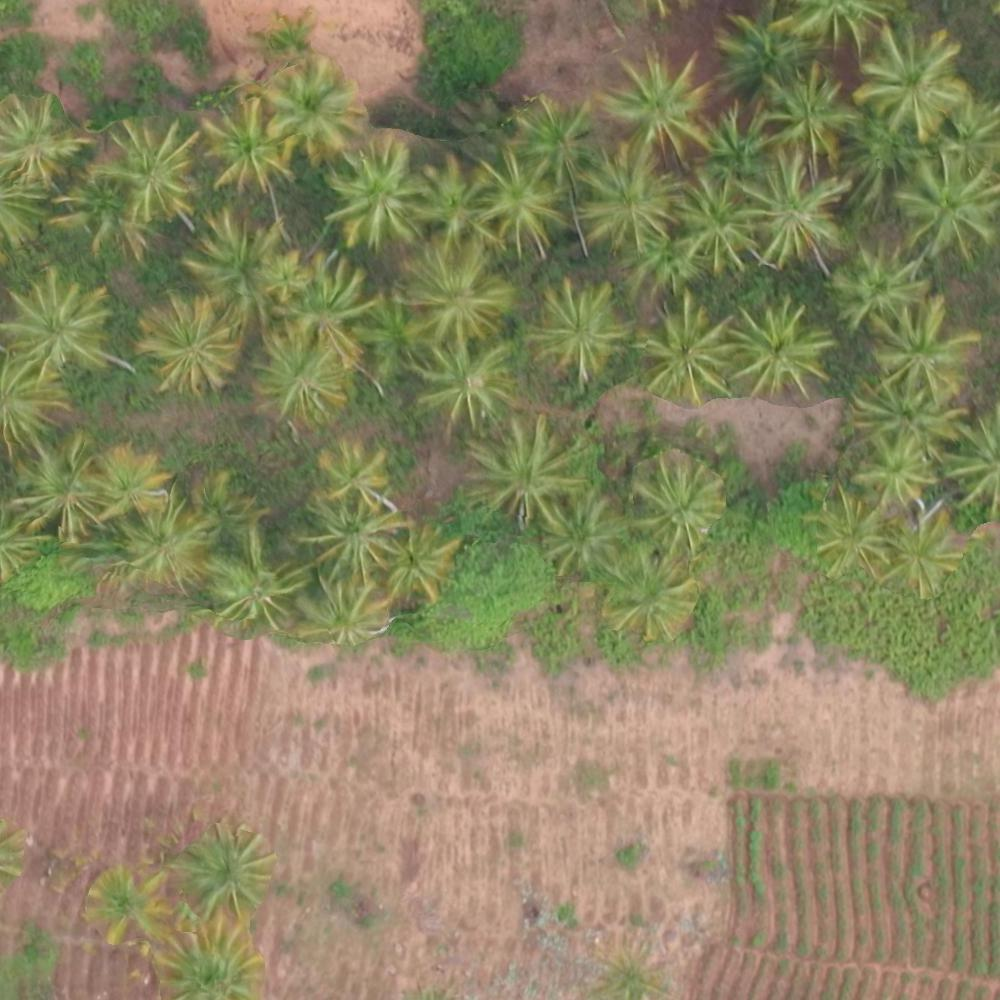Palm: (470, 414, 583, 529), (736, 157, 843, 265), (609, 52, 713, 161), (8, 272, 115, 375), (893, 150, 997, 255), (861, 27, 964, 131), (398, 246, 507, 342), (874, 297, 975, 400), (571, 148, 671, 252), (666, 161, 762, 268), (481, 150, 574, 254), (638, 294, 731, 397), (531, 278, 628, 376), (328, 145, 427, 240), (141, 297, 236, 395), (852, 376, 958, 463), (15, 438, 109, 535), (264, 60, 359, 155), (598, 545, 694, 639), (187, 214, 286, 304), (102, 118, 199, 209), (253, 326, 345, 421), (710, 11, 812, 96), (628, 452, 721, 545), (115, 499, 210, 590), (284, 254, 375, 349), (733, 301, 829, 391), (416, 339, 513, 428), (155, 919, 262, 999), (760, 65, 853, 157), (828, 242, 926, 328), (801, 486, 892, 577), (414, 156, 499, 247), (355, 286, 432, 386), (205, 533, 294, 618), (507, 92, 596, 176), (533, 491, 625, 572), (883, 509, 966, 598), (178, 825, 264, 910), (1, 98, 85, 185), (302, 495, 396, 571), (202, 98, 286, 181), (295, 572, 387, 645), (851, 431, 934, 508), (374, 524, 453, 602), (86, 441, 164, 513), (311, 436, 383, 502)
